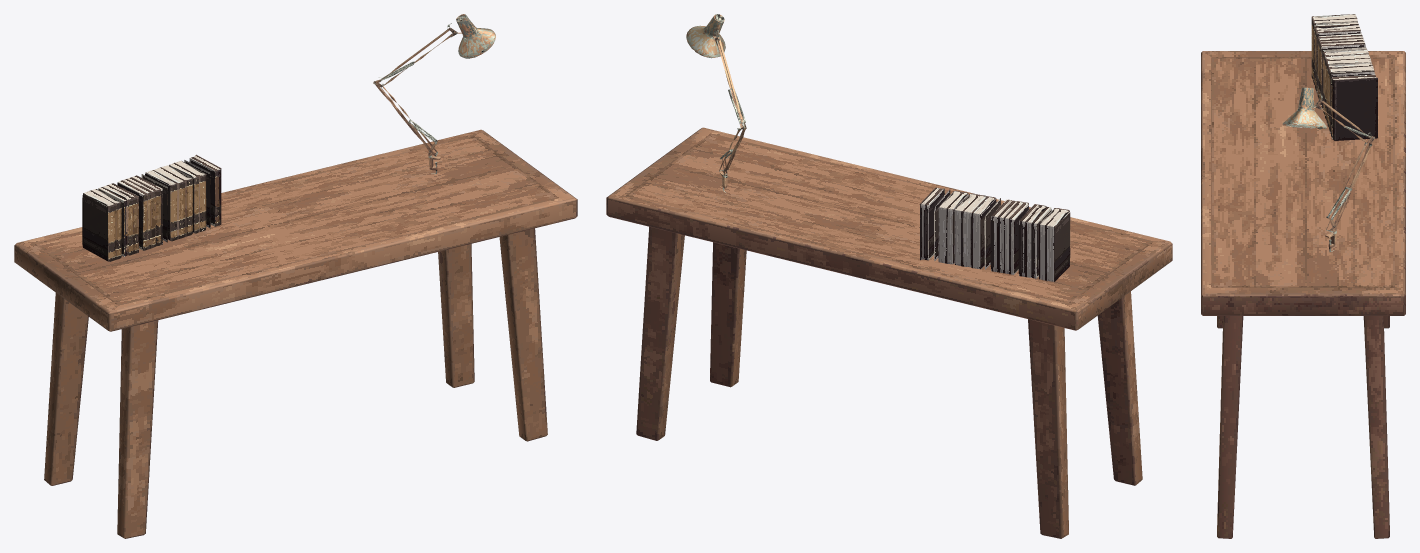
The model's file is desk.glb.
3 renders of one model, left to right at view 1: azimuth 30°, elevation 25°; view 2: azimuth 150°, elevation 25°; view 3: azimuth 270°, elevation 25°, orthographic. The views are drawn at different scales.
Visible parts, largest first — view 1: mesh_q (×3); view 2: mesh_q (×3); view 3: mesh_q (×3).
Part boxes in pixels (<box>): mesh_q (×3): <box>14,14,577,538</box>; mesh_q (×3): <box>606,14,1172,538</box>; mesh_q (×3): <box>1201,14,1405,538</box>.
Bounding box in the file's own units: 1.41 × 1.16 × 0.4978.
Materials: 3 (3 with a texture image).
